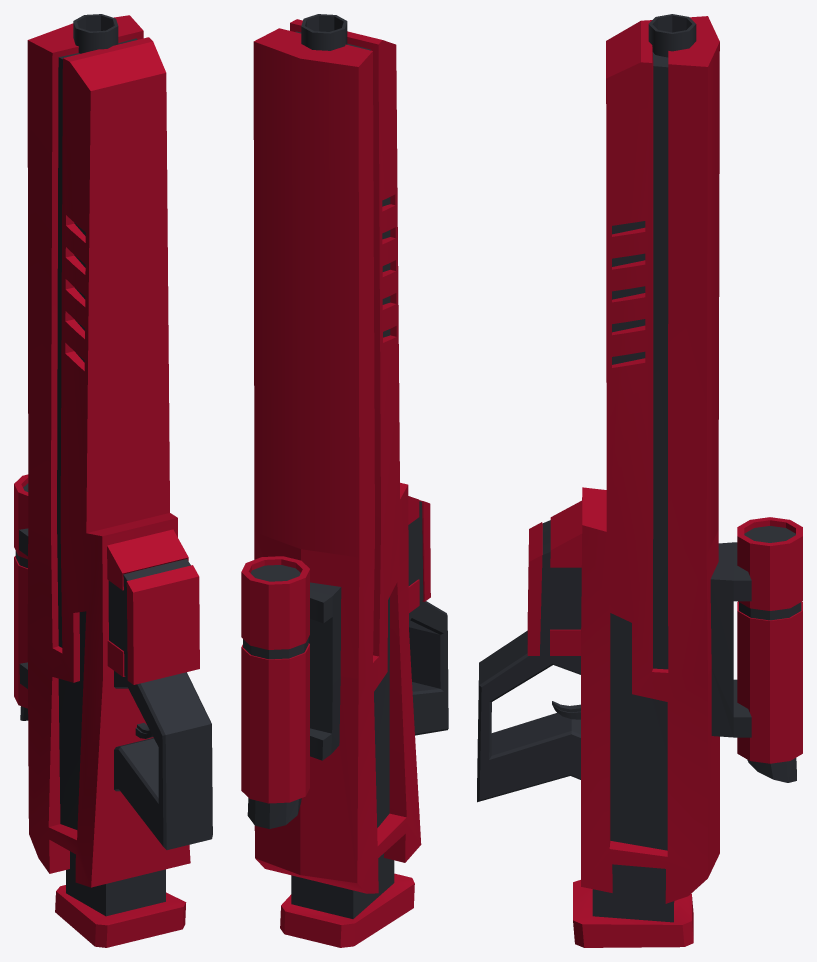
The model's file is low poly scifi gun035.fbx.
3 renders of one model, left to right at view 1: azimuth 30°, elevation 25°; view 2: azimuth 150°, elevation 25°; view 3: azimuth 270°, elevation 25°, orthographic. The views are drawn at different scales.
Visible parts, largest first — view 1: low poly scifi gun035; view 2: low poly scifi gun035; view 3: low poly scifi gun035.
Part boxes in pixels (x1=…): low poly scifi gun035: x1=14, y1=14, x2=212, y2=947; low poly scifi gun035: x1=241, y1=14, x2=448, y2=947; low poly scifi gun035: x1=477, y1=14, x2=802, y2=947.
Size of the model in its own units: 3.2 by 26.48 by 8.64.
